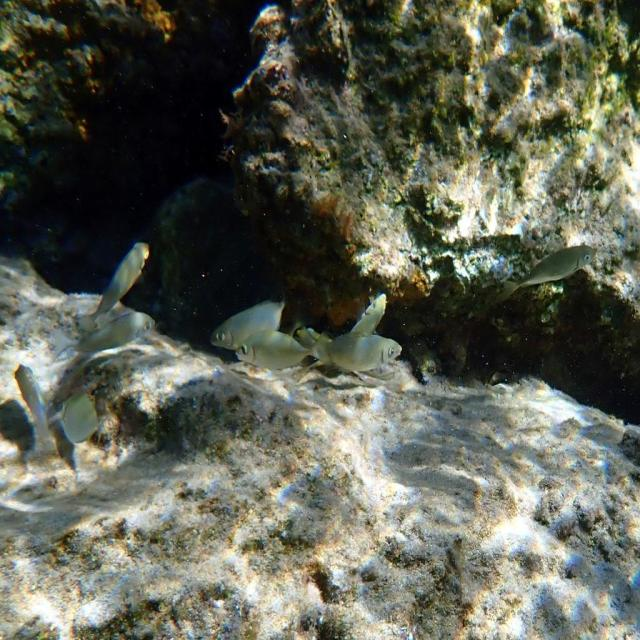Sokar Baligi: (77, 227, 165, 329), (494, 230, 606, 310)
